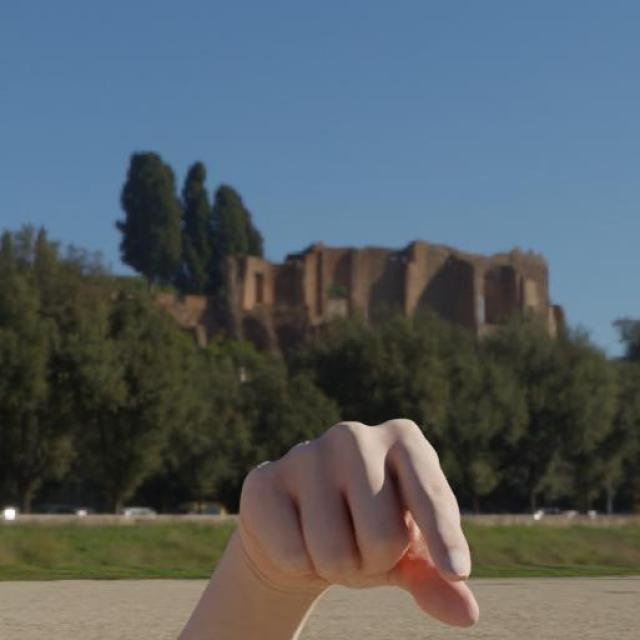Q: (232, 415, 484, 631)
